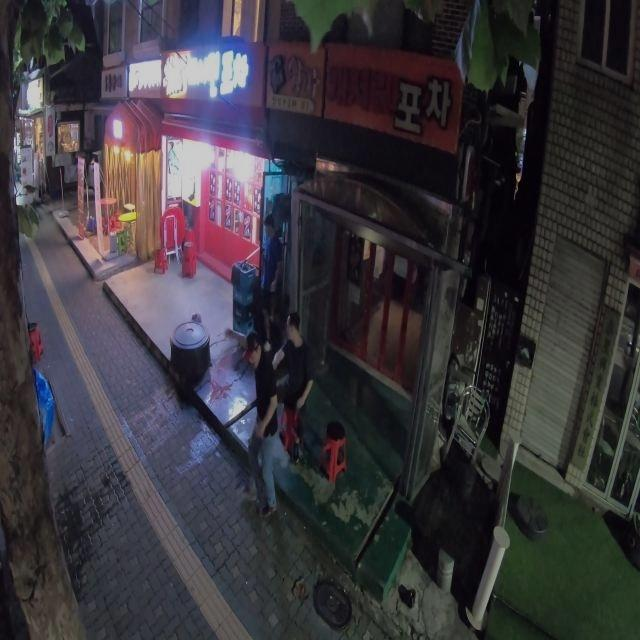fight: (241, 307, 313, 516)
